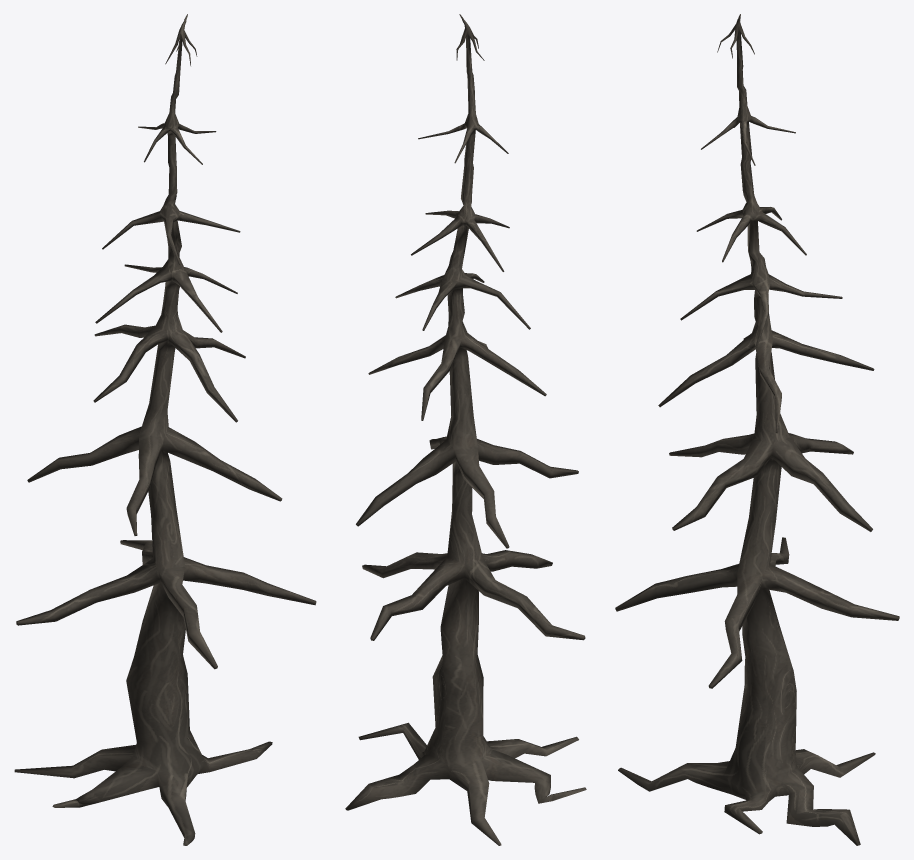
Rendered from shared_pine_tree_dry_00.fbx.
3 renders of one model, left to right at view 1: azimuth 30°, elevation 25°; view 2: azimuth 150°, elevation 25°; view 3: azimuth 270°, elevation 25°, orthographic. The views are drawn at different scales.
Parts seen in each view (by area): view 1: shared_pine_tree_dry_00; view 2: shared_pine_tree_dry_00; view 3: shared_pine_tree_dry_00.
Boxes of the visible parts, <box> form: shared_pine_tree_dry_00: <box>14,14,316,845</box>; shared_pine_tree_dry_00: <box>345,14,586,845</box>; shared_pine_tree_dry_00: <box>615,14,899,845</box>.
Bounding box in the file's own units: 12.2 × 34.88 × 11.2.
